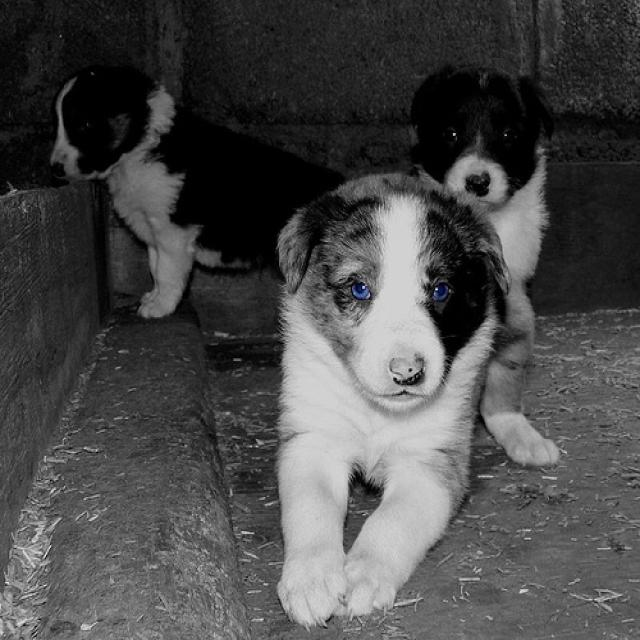dog: (233, 169, 557, 631), (43, 42, 329, 308), (402, 53, 566, 302)
